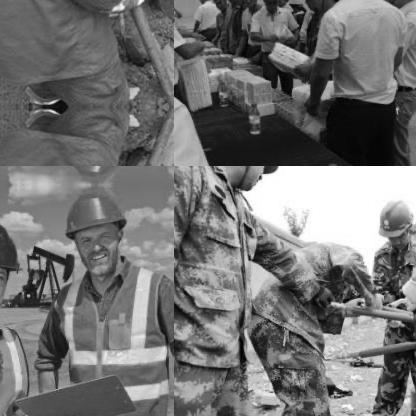Helmet: (57, 183, 133, 280), (0, 205, 23, 327), (374, 194, 415, 249), (203, 166, 288, 191), (56, 166, 135, 185), (286, 0, 306, 17), (227, 0, 247, 9), (211, 0, 226, 11), (301, 0, 316, 11), (261, 0, 281, 8), (239, 0, 257, 8), (195, 0, 210, 4)
